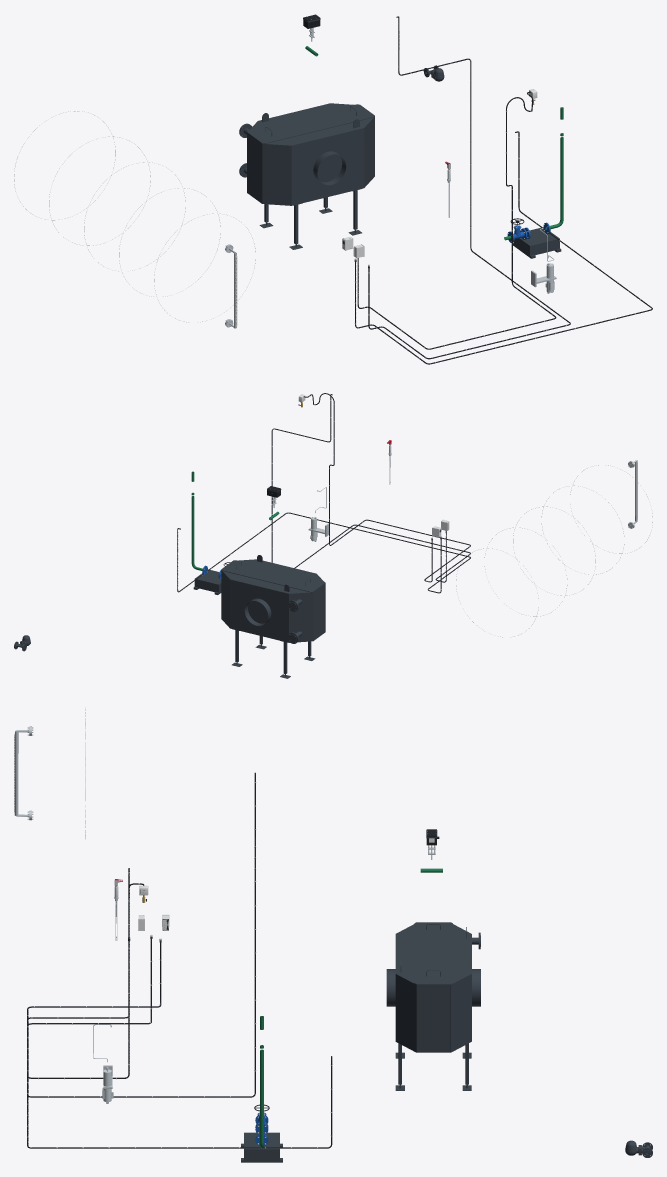
3 renders of one model, top to bottom at view 1: azimuth 30°, elevation 25°; view 2: azimuth 150°, elevation 25°; view 3: azimuth 270°, elevation 25°, orthographic. The views are drawn at different scales.
Visible parts, largest first — view 1: EQS2-2000 CAD 0, EQS2-2000 CAD 3, EQS2-2000 CAD 1, gpz_drive_cable / black, wiring_pump_2 / black, wiring_pressure_transmitter / black, pump_branch_1 / dark, deaerator_details / steel; view 2: EQS2-2000 CAD 0, EQS2-2000 CAD 3, EQS2-2000 CAD 2, gpz_drive_cable / black, wiring_pump_2 / black, wiring_pressure_transmitter / black, deaerator_details / steel, pump_branch_1 / dark; view 3: EQS2-2000 CAD 3, gpz_drive_cable / black, wiring_pump_2 / black, EQS2-2000 CAD 0, wiring_pressure_transmitter / black, pump_branch_1 / dark.
Part boxes in pixels (x1=…): EQS2-2000 CAD 0: x1=259, y1=128, x2=364, y2=249; EQS2-2000 CAD 3: x1=247, y1=103, x2=374, y2=203; EQS2-2000 CAD 1: x1=262, y1=144, x2=291, y2=205; gpz_drive_cable / black: x1=368, y1=16, x2=570, y2=359; wiring_pump_2 / black: x1=355, y1=131, x2=652, y2=364; wiring_pressure_transmitter / black: x1=357, y1=91, x2=556, y2=349; pump_branch_1 / dark: x1=513, y1=227, x2=561, y2=258; deaerator_details / steel: x1=14, y1=111, x2=255, y2=328; EQS2-2000 CAD 0: x1=230, y1=579, x2=315, y2=678; EQS2-2000 CAD 3: x1=221, y1=555, x2=325, y2=640; EQS2-2000 CAD 2: x1=287, y1=592, x2=313, y2=643; gpz_drive_cable / black: x1=271, y1=394, x2=470, y2=582; wiring_pump_2 / black: x1=177, y1=512, x2=470, y2=593; wiring_pressure_transmitter / black: x1=303, y1=393, x2=470, y2=582; deaerator_details / steel: x1=456, y1=460, x2=652, y2=637; pump_branch_1 / dark: x1=193, y1=569, x2=221, y2=594; EQS2-2000 CAD 3: x1=395, y1=922, x2=471, y2=1052; gpz_drive_cable / black: x1=27, y1=772, x2=255, y2=1097; wiring_pump_2 / black: x1=27, y1=939, x2=332, y2=1148; EQS2-2000 CAD 0: x1=386, y1=934, x2=480, y2=1090; wiring_pressure_transmitter / black: x1=27, y1=868, x2=161, y2=1078; pump_branch_1 / dark: x1=241, y1=1132, x2=282, y2=1162.
Size of the model in its own units: 7.46 by 3.6 by 6.88.
